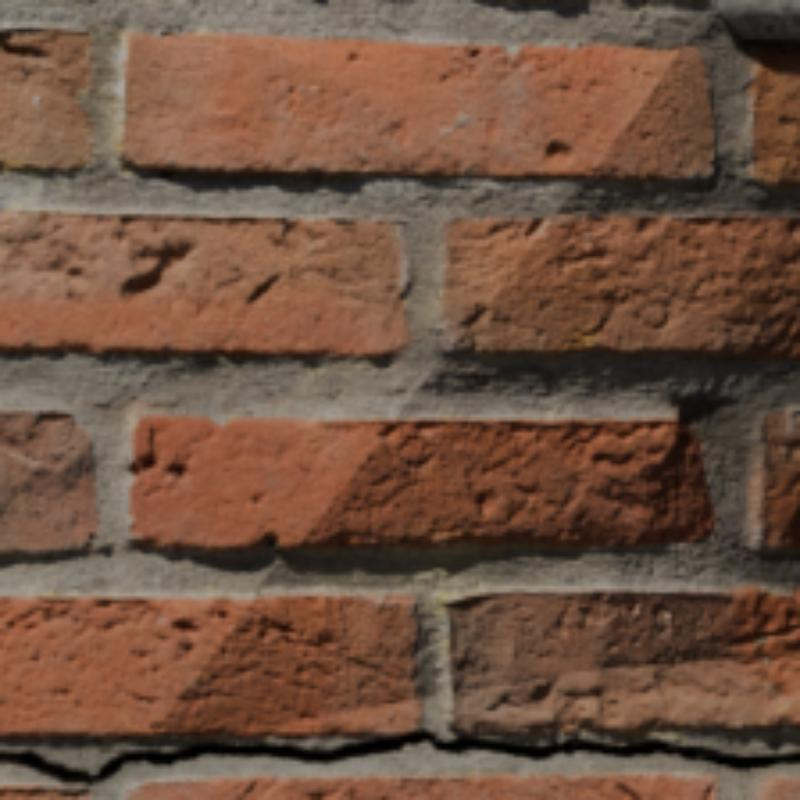pothole: (0, 729, 796, 782)
